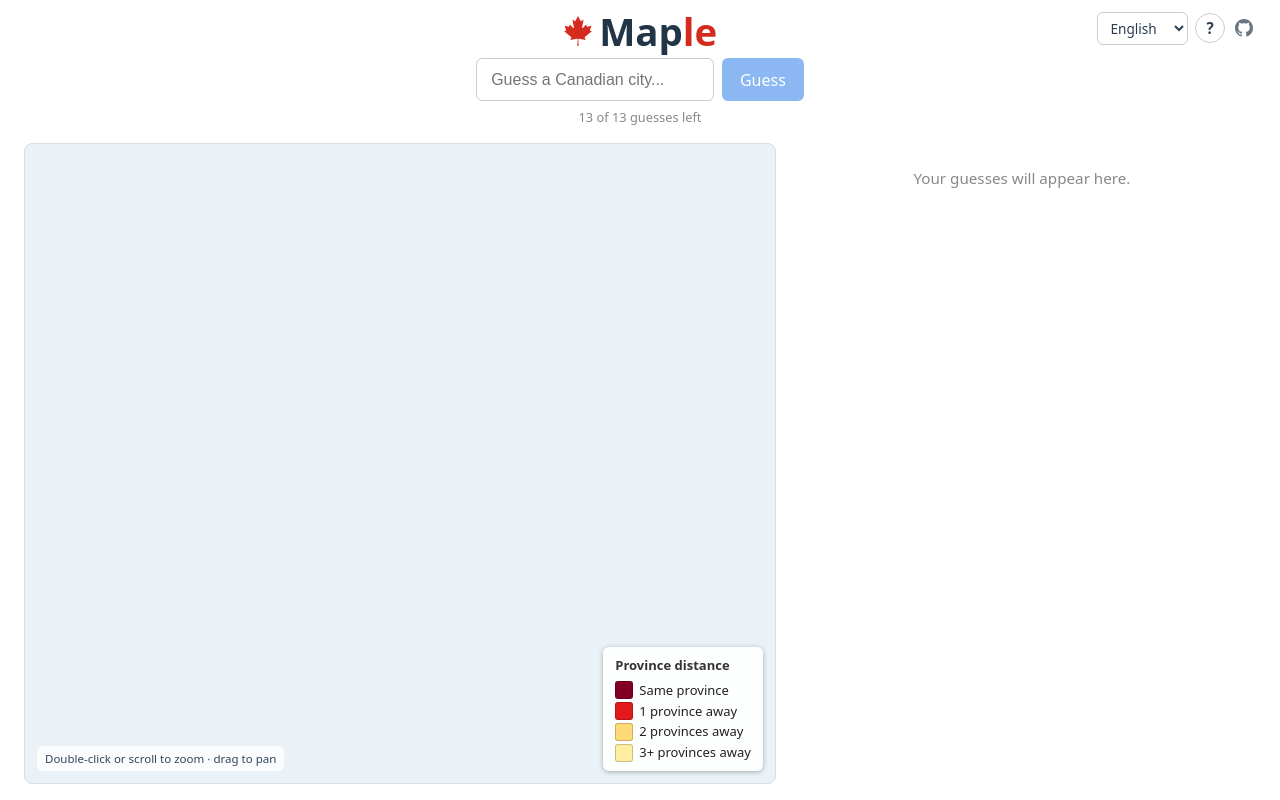
Scenario: App — playing › records a miss in the guess table with its hints
Type "montreal" into the dropdown with placeholder "Guess a Canadian city...". click: (595, 80)
box: x1=476 y1=58 x2=714 y2=101
Then press Enter
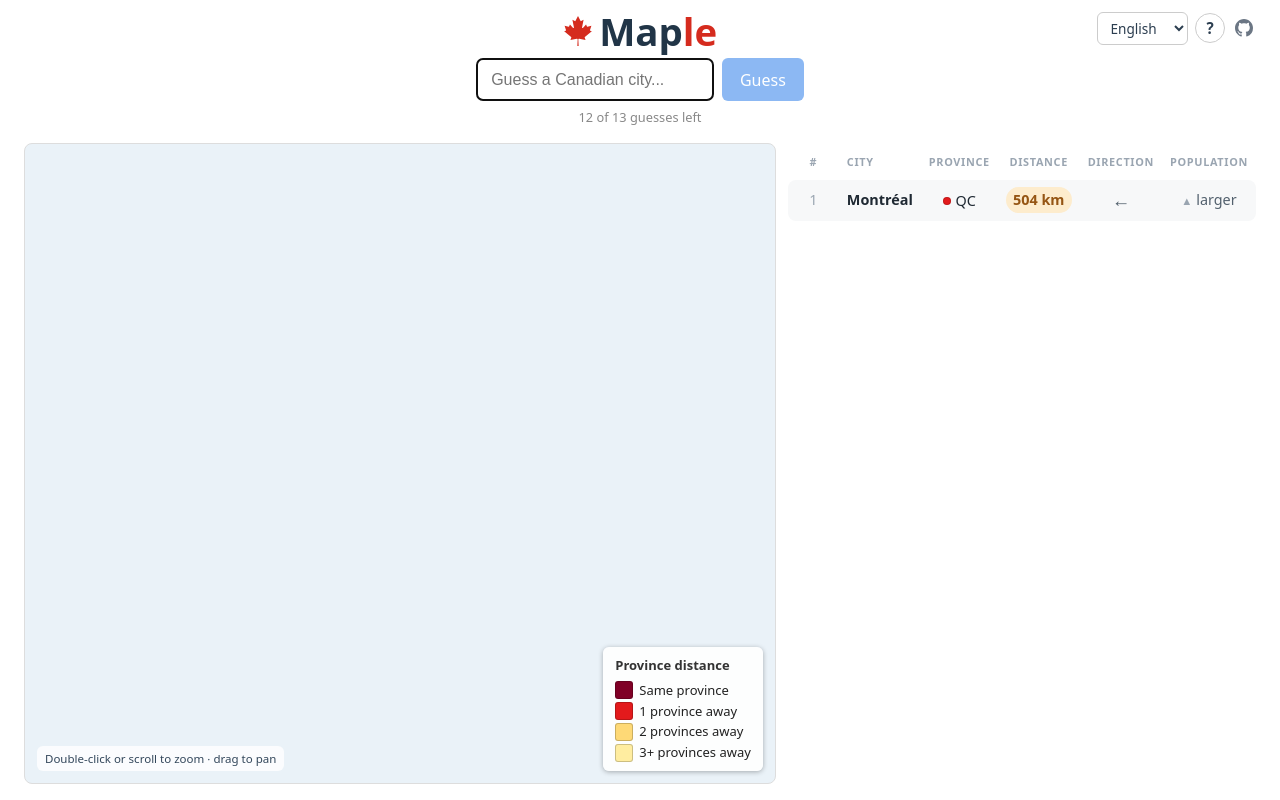
Now the text "QC" is shown, box x1=943 y1=190 x2=976 y2=212
Now the text "504 km" is shown, box x1=1006 y1=187 x2=1072 y2=214
